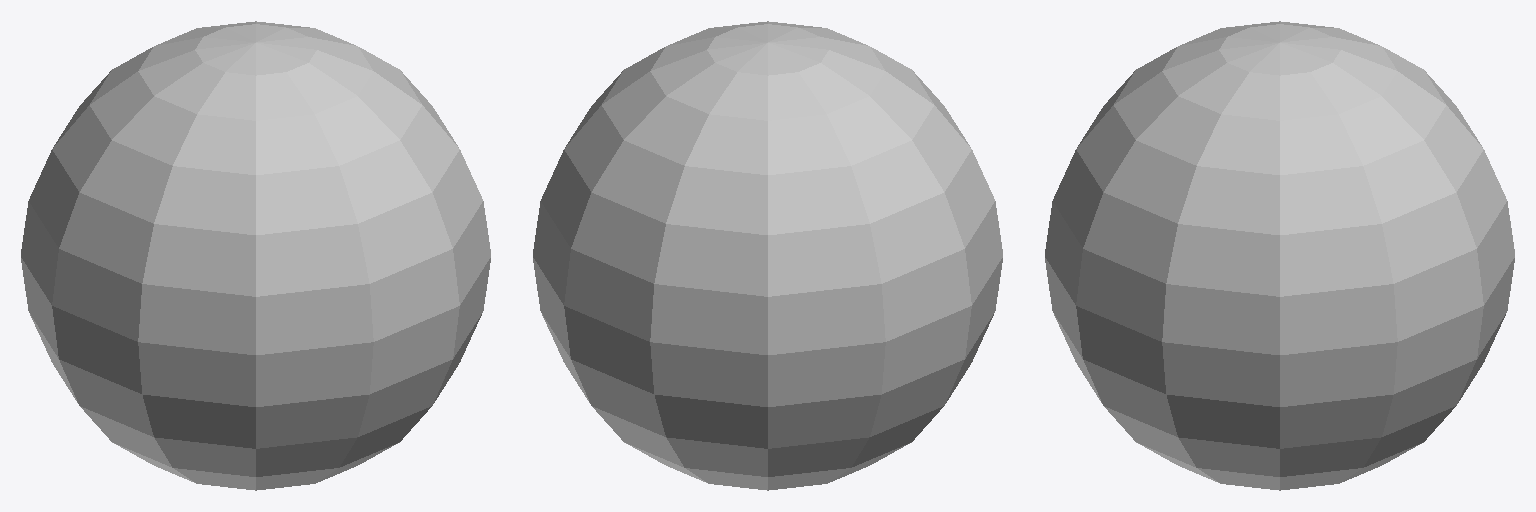
Rendered from mSnowBall.obj.
The picture shows the model from 3 angles: view 1: azimuth 30°, elevation 25°; view 2: azimuth 150°, elevation 25°; view 3: azimuth 270°, elevation 25°; orthographic projection.
Parts seen in each view (by area): view 1: mSnowBall; view 2: mSnowBall; view 3: mSnowBall.
Part boxes in pixels (x1,y1,x2,y2): mSnowBall: (21,21,490,490); mSnowBall: (533,21,1002,490); mSnowBall: (1045,21,1514,490).
Bounding box in the file's own units: 0.633 × 0.633 × 0.633.